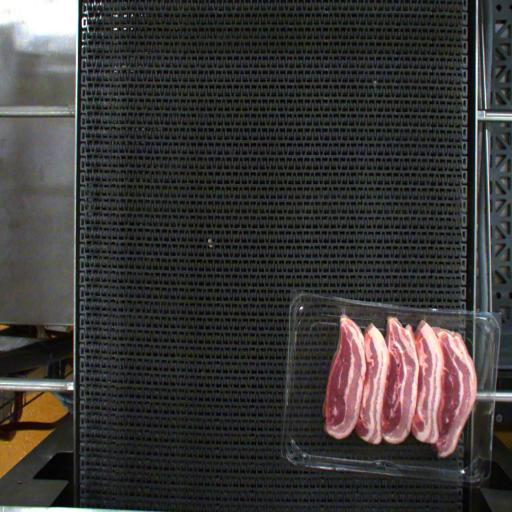packaging-error: (322, 279, 349, 330)
